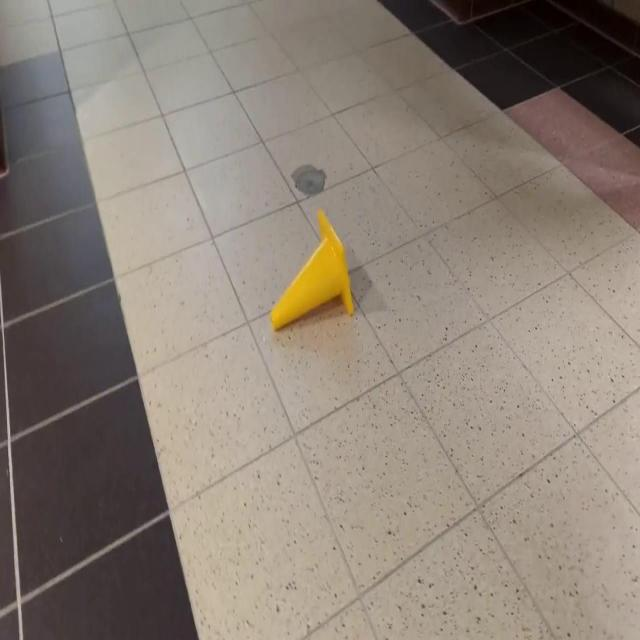frc_cone: (270, 207, 354, 333)
